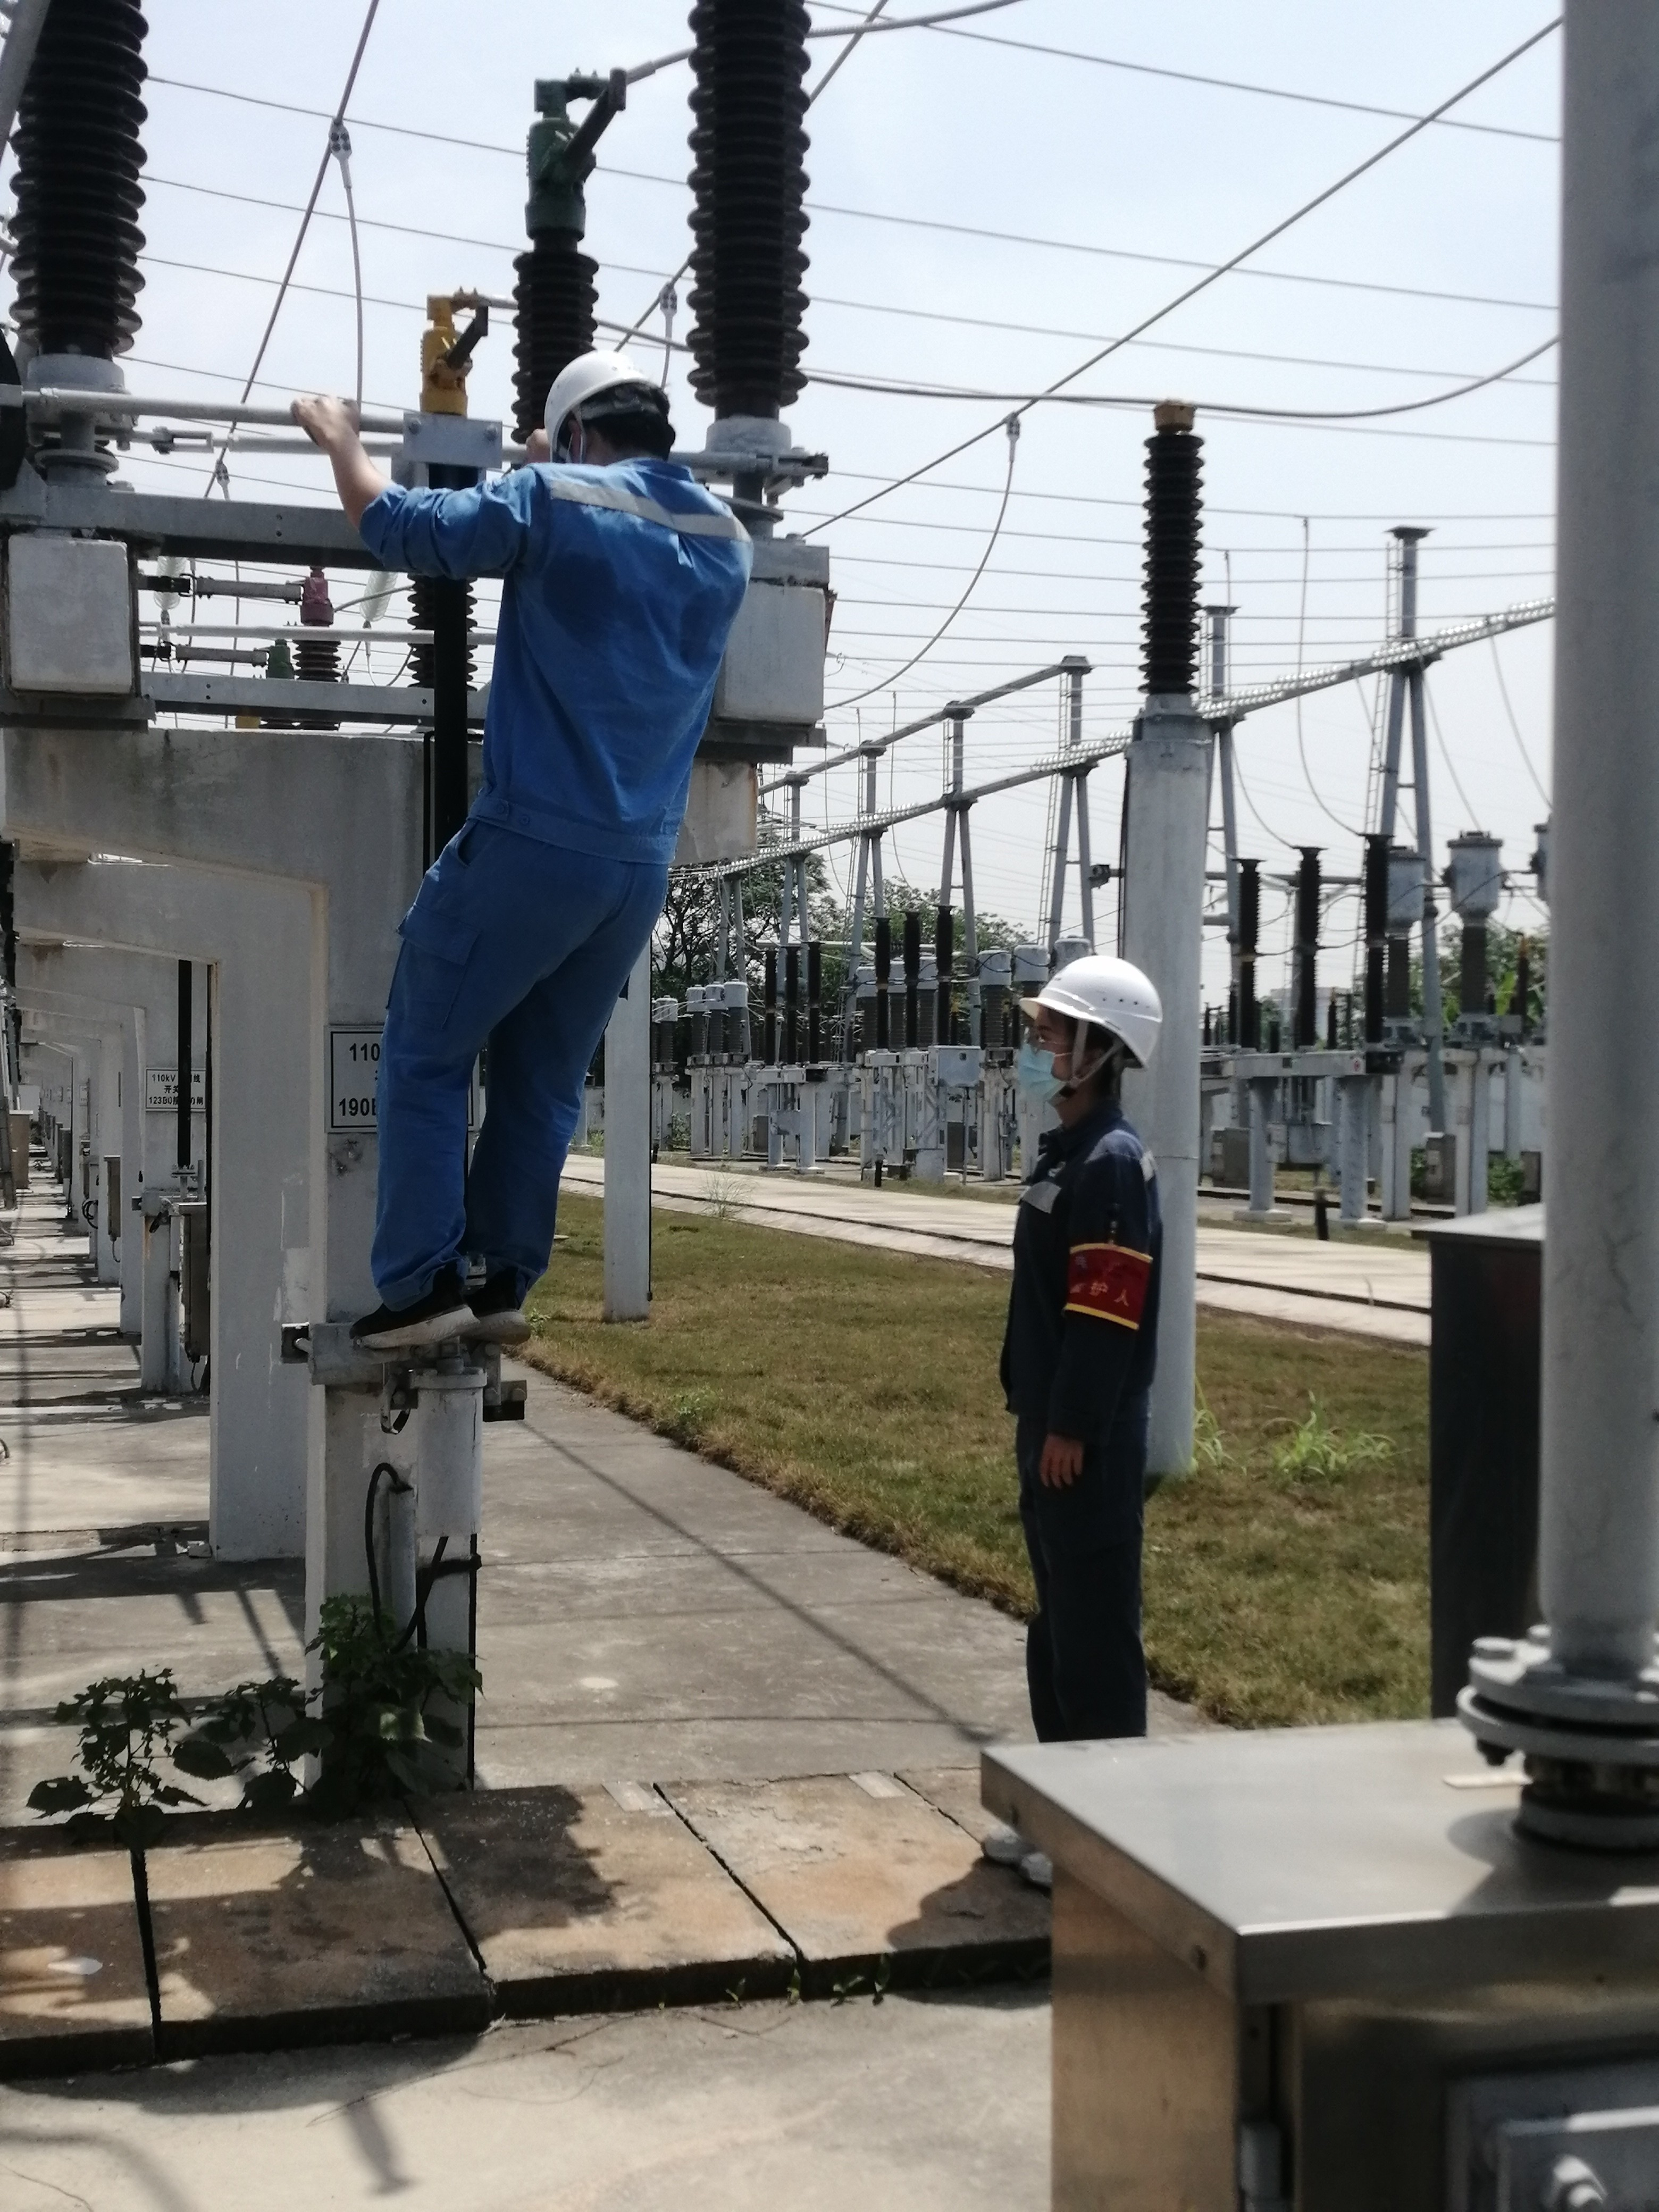downsuit: (371, 880, 666, 1298), (1026, 1468, 1150, 1731)
upsuit: (361, 451, 758, 843), (990, 1111, 1171, 1444)
wrongtop: (291, 385, 406, 540)
